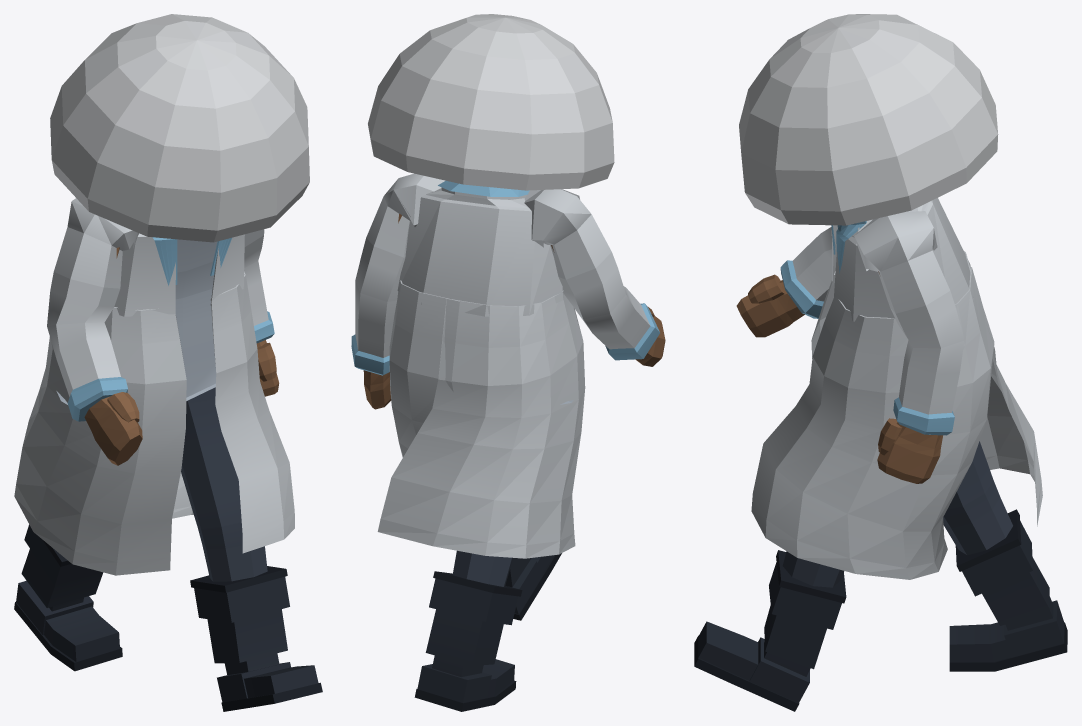
Rendered from city-commuter-52a53f__walk0.glb.
3 views of the same model, side by side, from view 1: azimuth 30°, elevation 25°; view 2: azimuth 150°, elevation 25°; view 3: azimuth 270°, elevation 25° (orthographic). The views are drawn at different scales.
Visible parts, largest first — view 1: city-commuter-52a53f__walk0; view 2: city-commuter-52a53f__walk0; view 3: city-commuter-52a53f__walk0.
Part boxes in pixels (x1,y1,x2,y2): city-commuter-52a53f__walk0: (14,14,322,711); city-commuter-52a53f__walk0: (351,14,665,711); city-commuter-52a53f__walk0: (694,14,1067,711).
Bounding box in the file's own units: 0.7576 × 1.82 × 0.9332.
